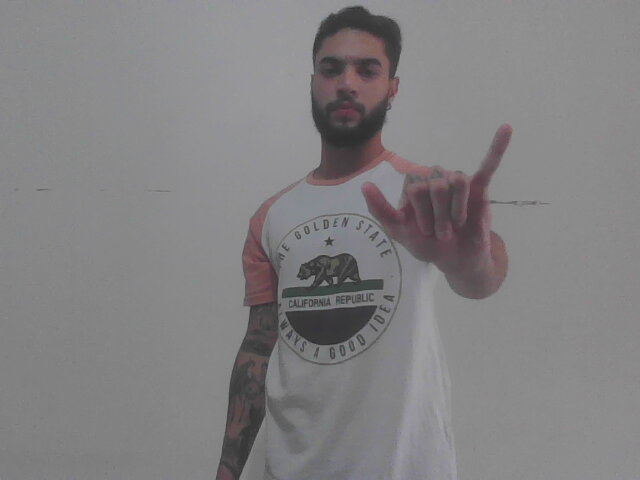y: (359, 122, 516, 284)
